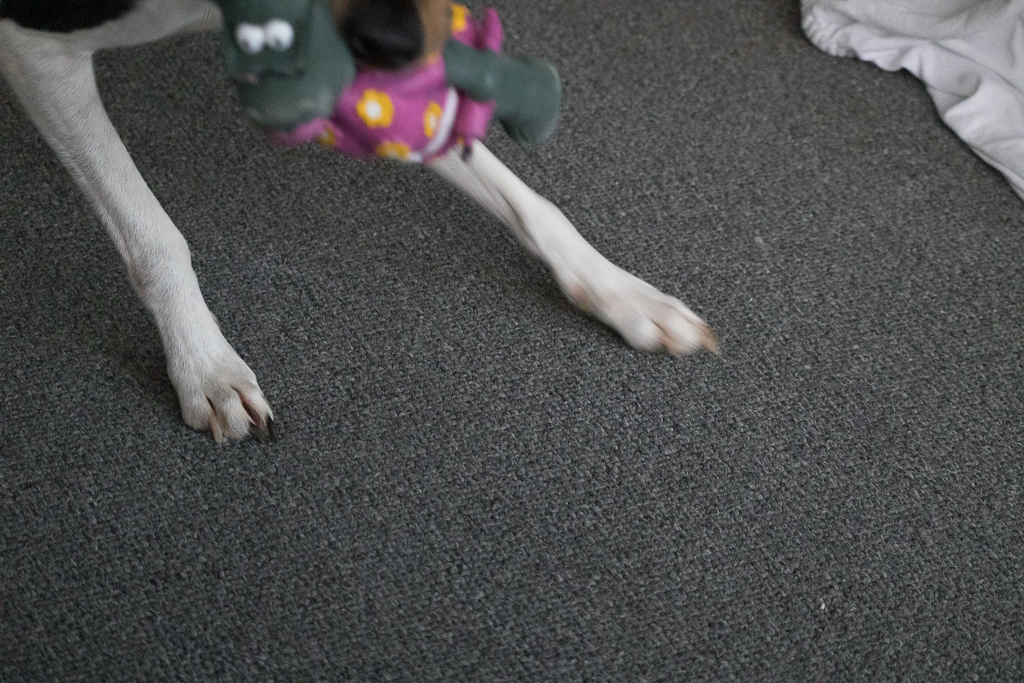Dog: (0, 0, 752, 473)
Humanoid: (200, 0, 580, 188)
